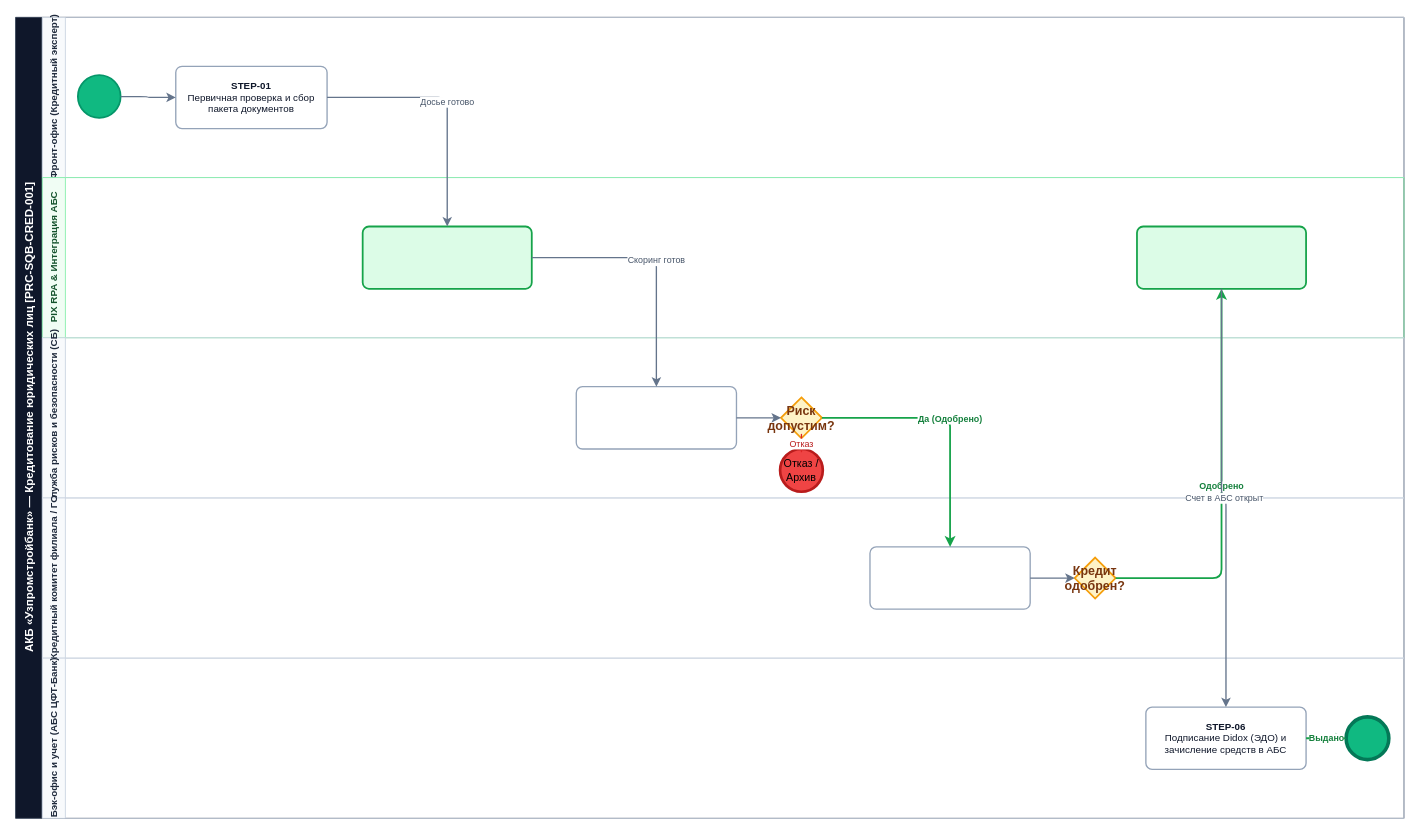
This 1420x834 diagram has some shape labels left out. Each missing label, with the centre of its shape:
"[PIX RPA РОБОТ] STEP-02 : Авто-скоринг KATM & Запрос ГНК (Soliq)" belongs at point 446,257.
"[PIX RPA РОБОТ] STEP-05 : Генерация договора и открытие счета 16... в АБС ЦФТ" belongs at point 1221,257.
"STEP-03 Андеррайтинг, оценка рисков и ликвидности залога" belongs at point 656,417.
"STEP-04 Рассмотрение и голосование Кредитного комитета" belongs at point 949,577.
"Кредит выдан" belongs at point 1367,738.
"Поступление заявки на кредит" belongs at point 99,96.
